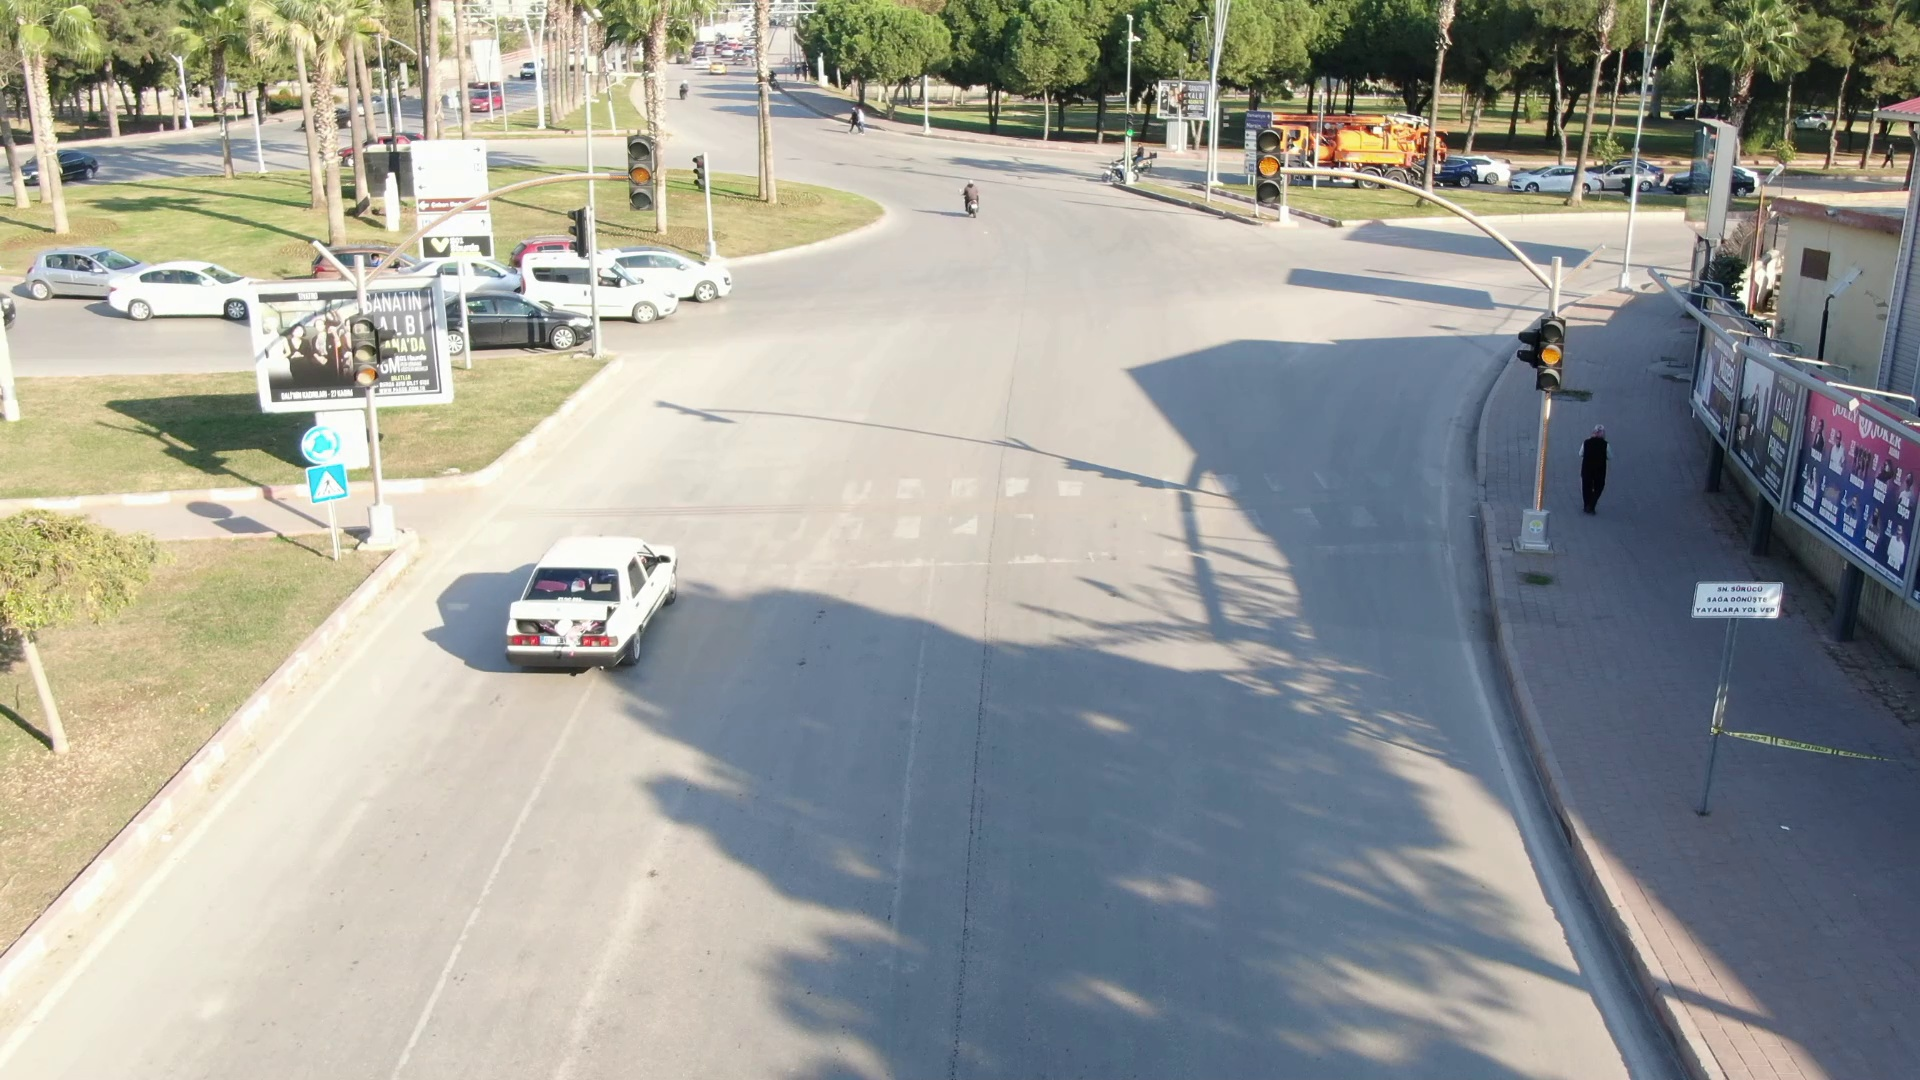car: (486, 531, 717, 684), (417, 286, 608, 361), (510, 247, 700, 310), (582, 233, 745, 298), (96, 255, 253, 319), (21, 239, 161, 308)
person: (1574, 414, 1617, 523), (957, 166, 986, 219)
